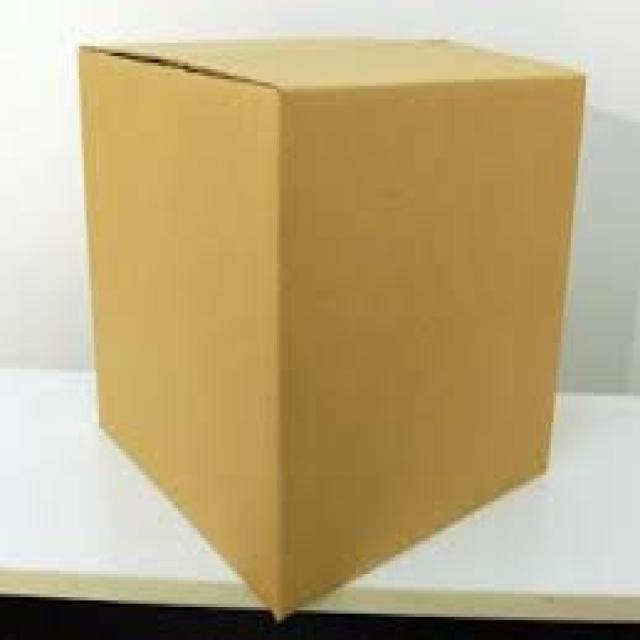cardboard: (77, 33, 583, 620)
